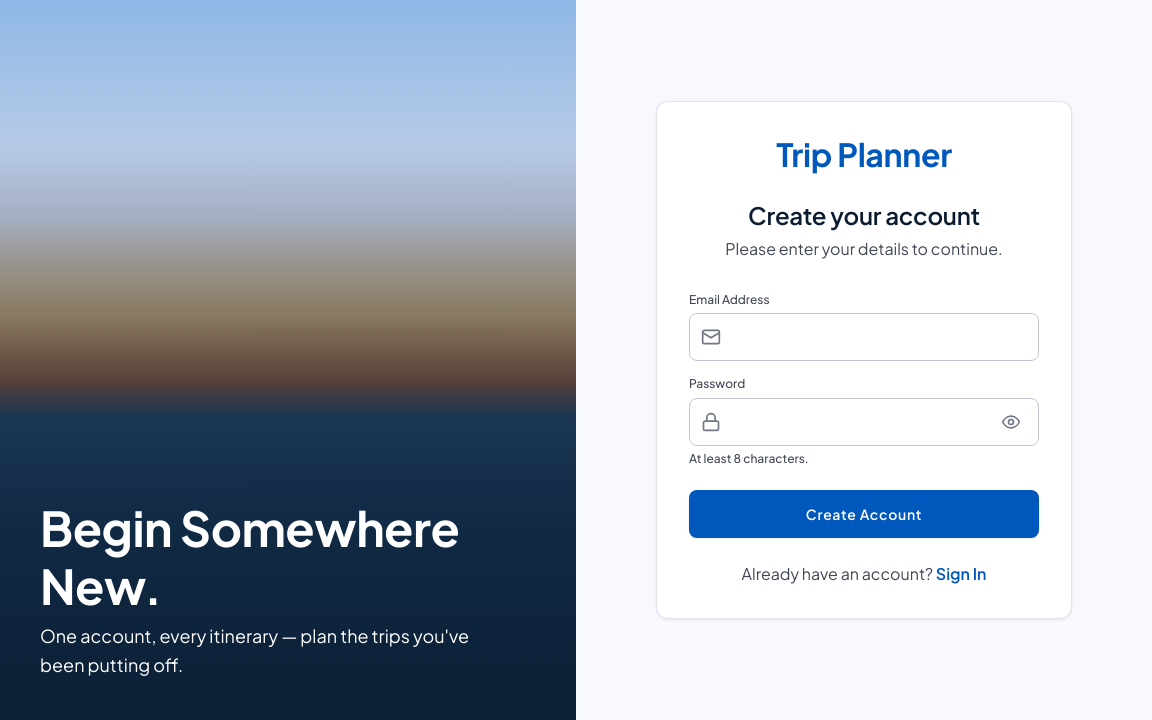
Test: RegisterPage › clears a field error when the user edits that field
Type "not-an-email" into the field labelled "Email Address" at (864, 337), box [689,313,1039,361]
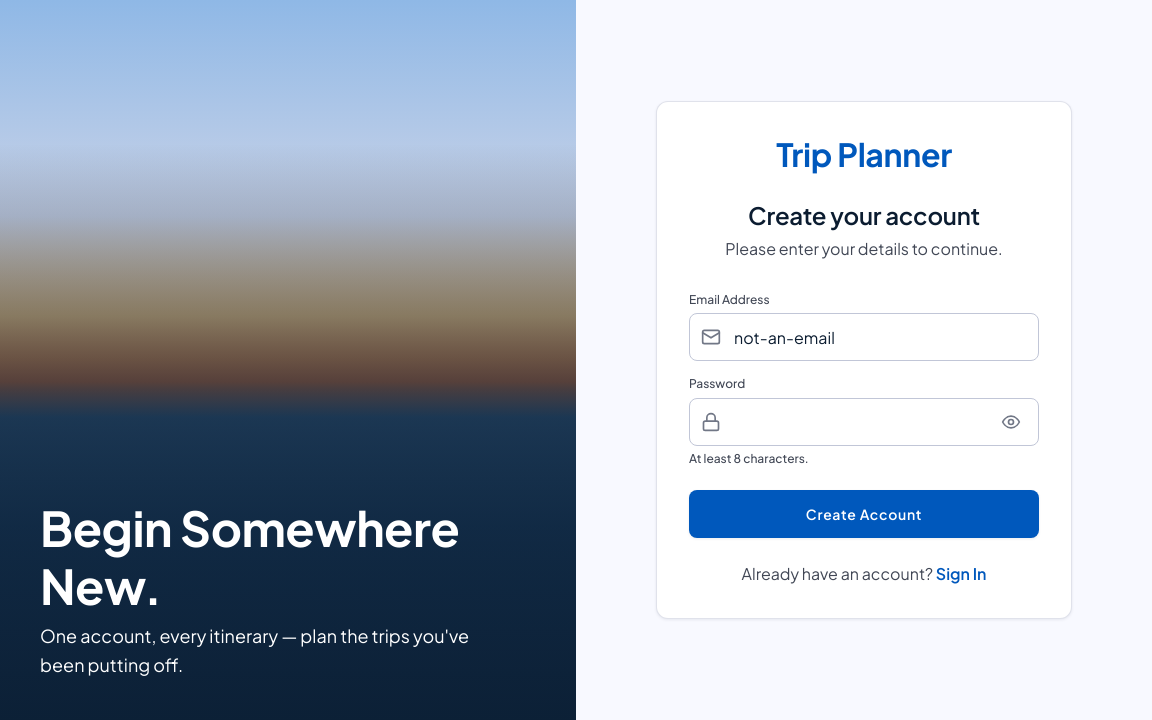
Type "short" into the password field labelled "Password" at (864, 422), box [689,398,1039,446]
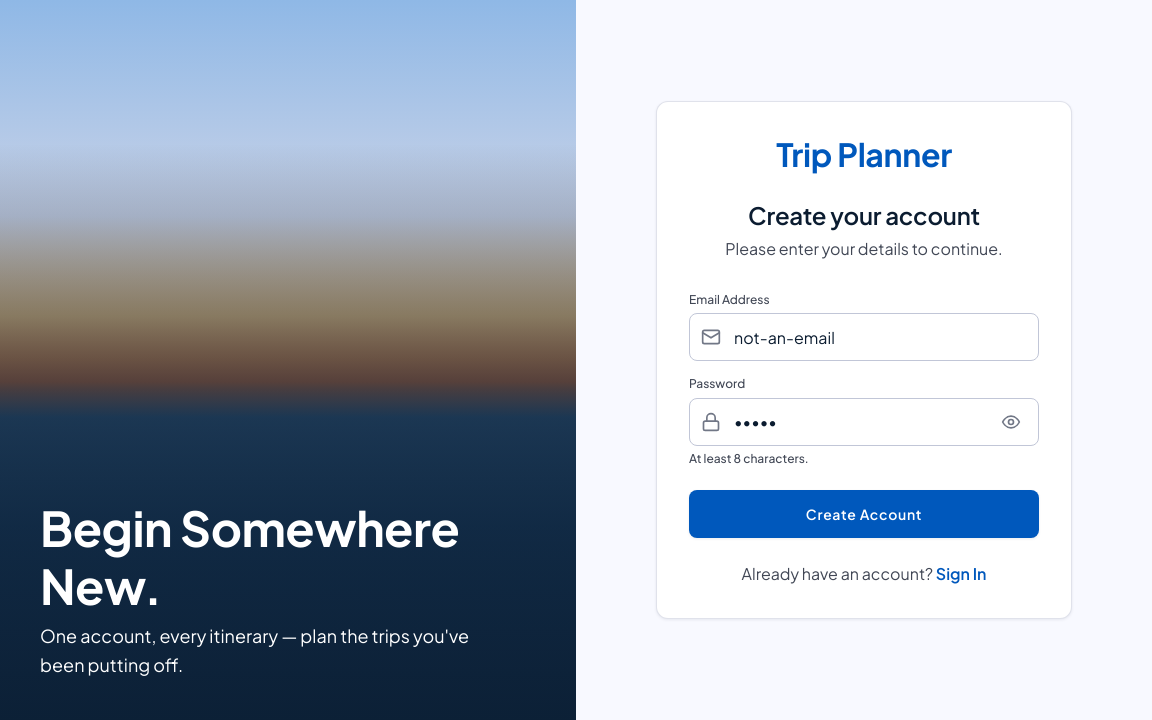
Click the button "Create Account" at (864, 514), box [689,490,1039,538]
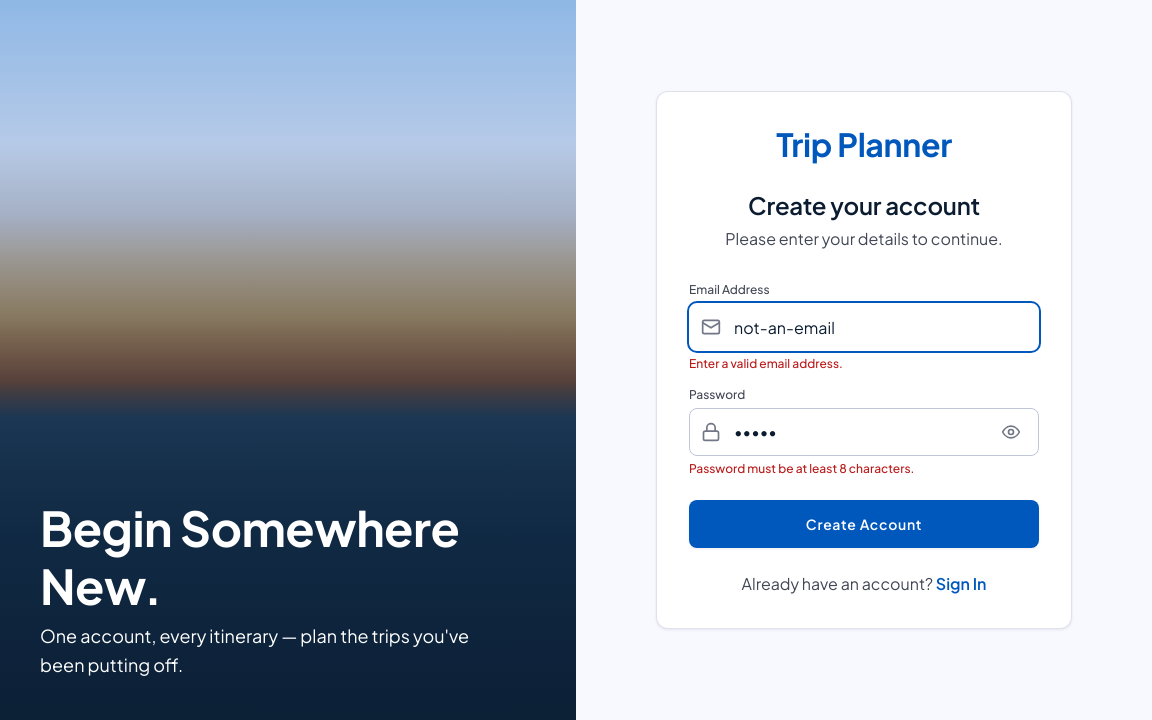
Replace the text in the field labelled "Email Address" with "user@example.com" at (864, 327), box [689,303,1039,351]
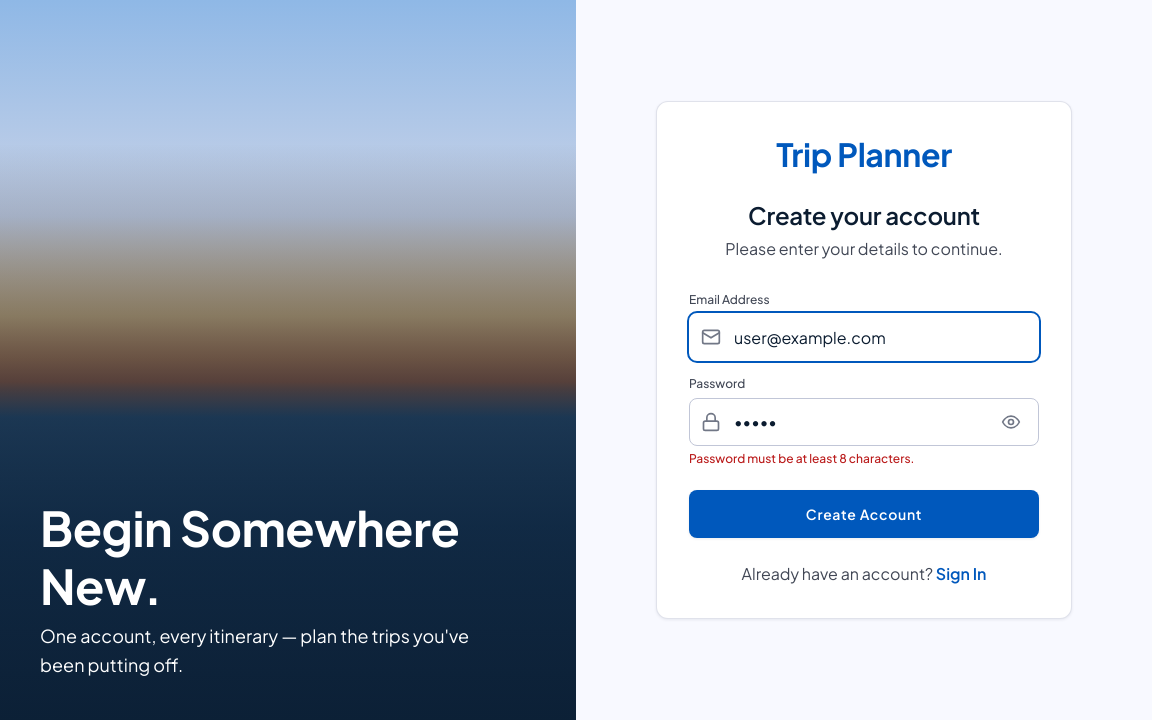
Now the text "Password must be at least 8 characters." is shown, box [689,451,914,466]
Now the text "Enter a valid email address." is gone
Type "password123" into the password field labelled "Password" at (864, 422), box [689,398,1039,446]
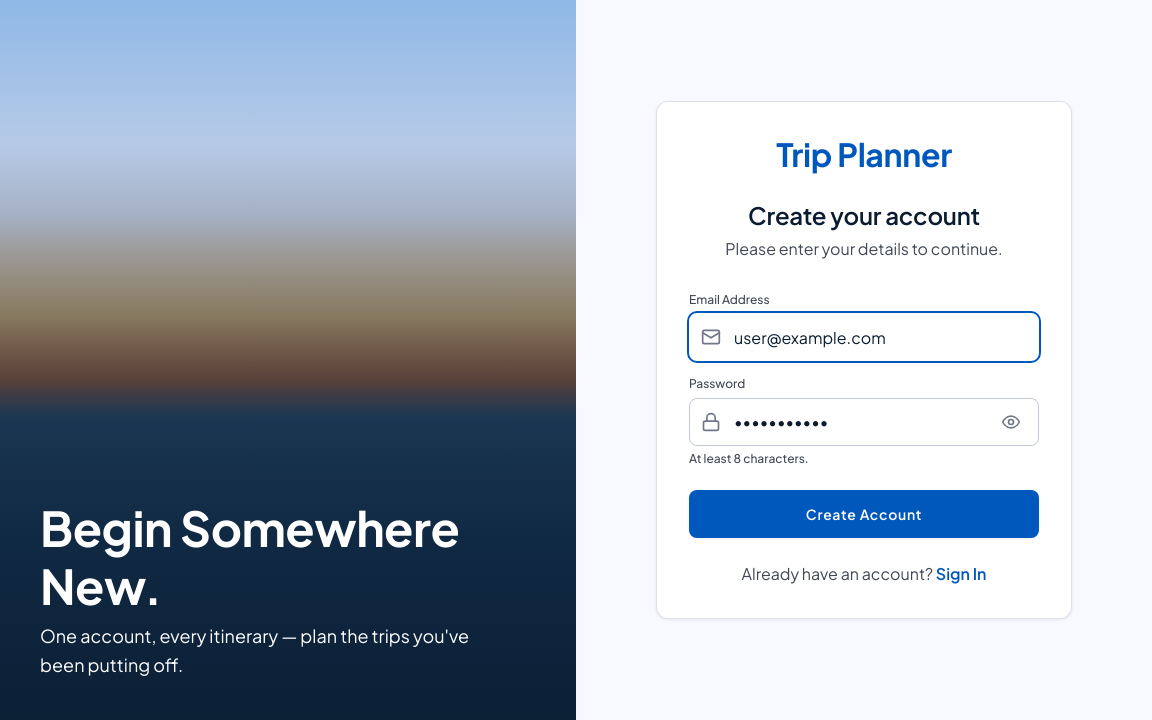
Expected: the text "At least 8 characters." is shown, [689,451,809,466]
Now the text "Password must be at least 8 characters." is gone
